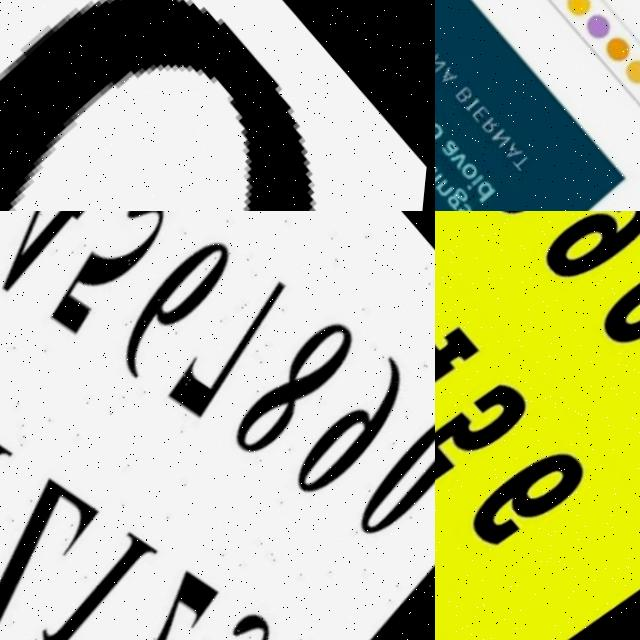0: (281, 349, 435, 599), (576, 215, 640, 383)
1: (0, 491, 221, 640)
2: (41, 531, 280, 640)
3: (97, 570, 344, 640)
4: (0, 211, 160, 331), (435, 283, 504, 450)
5: (0, 211, 225, 375), (435, 352, 560, 510)
6: (45, 211, 302, 423), (440, 415, 626, 588)
7: (104, 224, 366, 466)
8: (171, 283, 413, 509)
9: (225, 318, 435, 551), (518, 211, 640, 312)
O: (0, 0, 323, 211)
